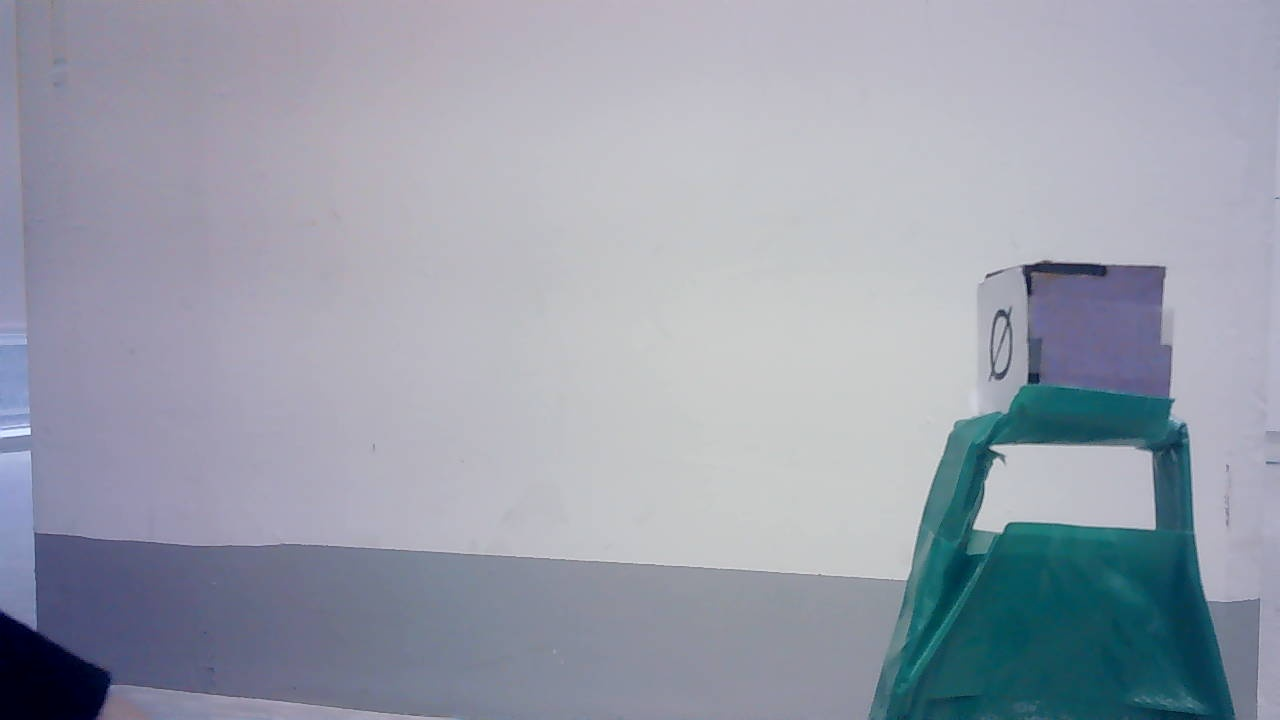box: (962, 266, 1031, 415)
